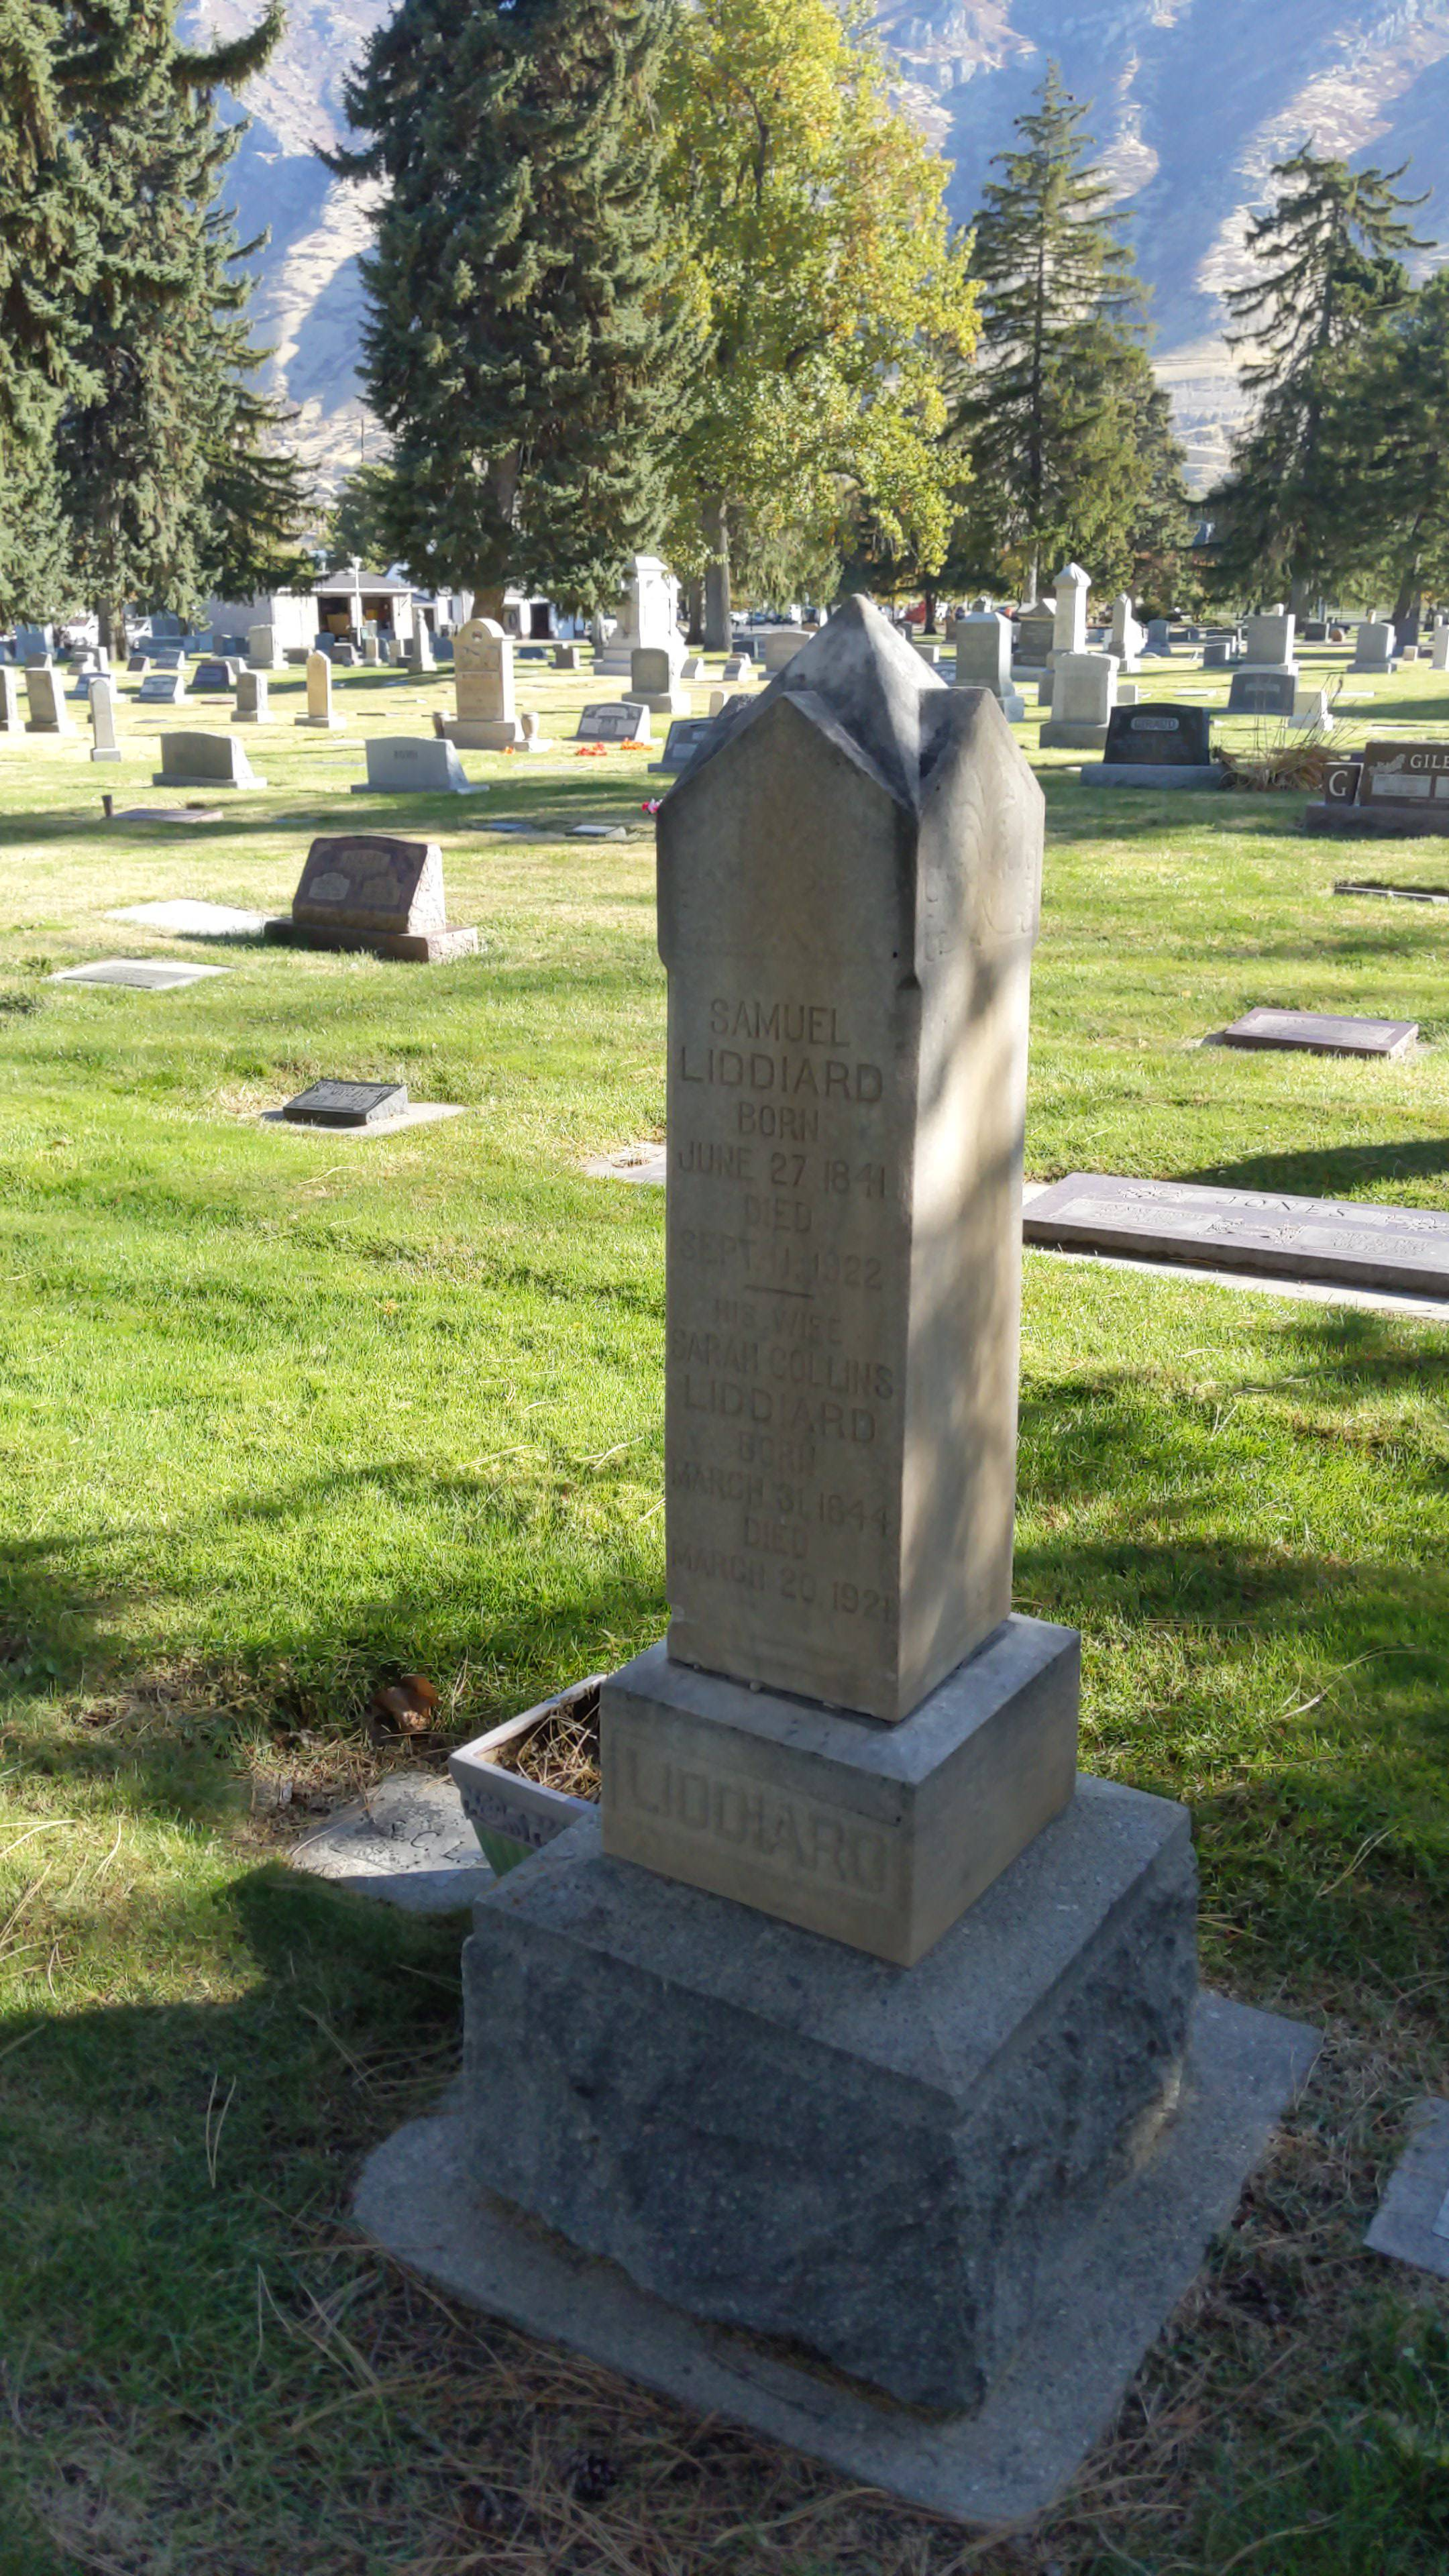obelisk: (603, 587, 1083, 1944)
